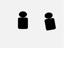human: (42, 10, 57, 31), (16, 9, 29, 30)
